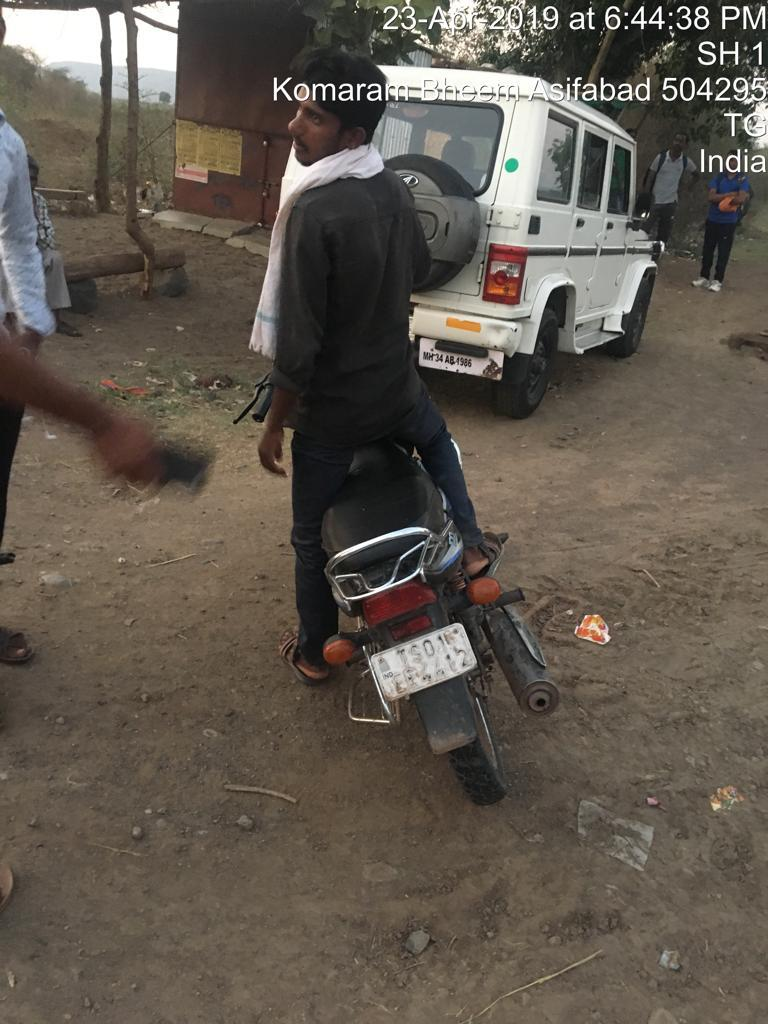plate: (337, 599, 480, 712)
